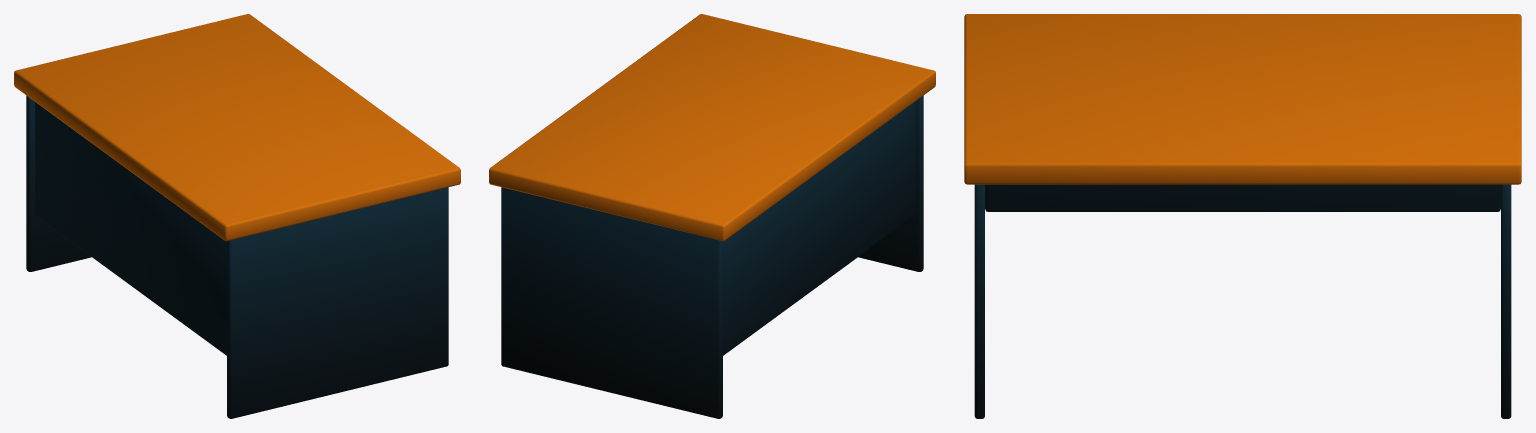
Rendered from SM_desk.fbx.
3 views of the same model, side by side, from view 1: azimuth 30°, elevation 25°; view 2: azimuth 150°, elevation 25°; view 3: azimuth 270°, elevation 25° (orthographic). The views are drawn at different scales.
Visible parts, largest first — view 1: Cube; view 2: Cube; view 3: Cube.
Boxes of the visible parts, x1=… form: Cube: x1=14, y1=14, x2=460, y2=418; Cube: x1=489, y1=14, x2=935, y2=418; Cube: x1=964, y1=14, x2=1521, y2=418.
Size of the model in its own units: 128 by 104 by 200.
